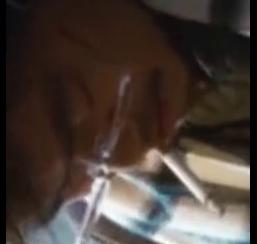Cigarette: (161, 150, 228, 215)
